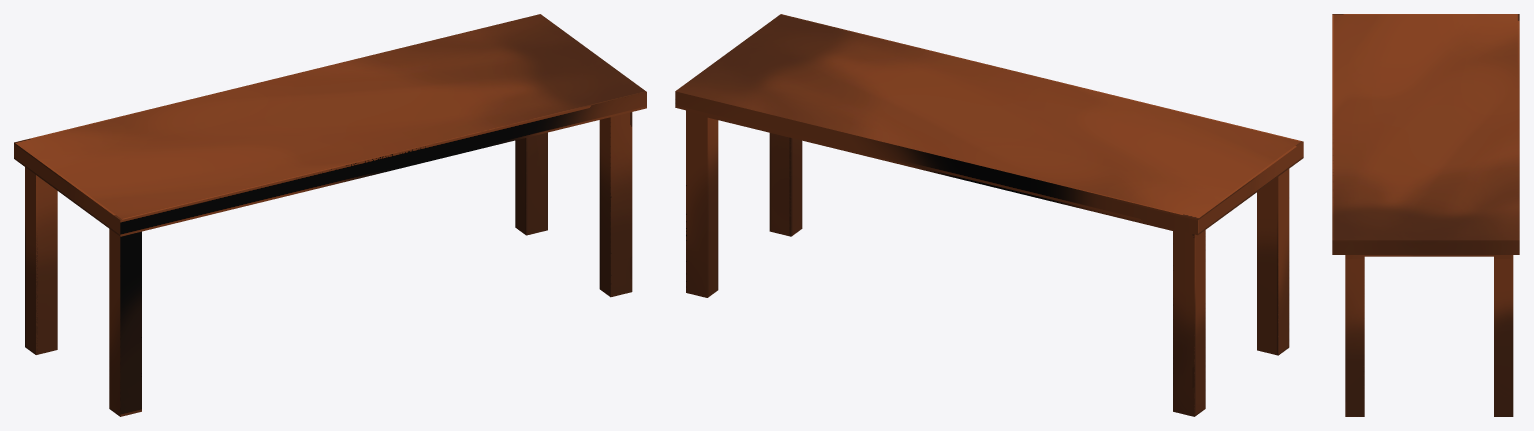
Rendered from lawkadzieci.fbx.
3 views of the same model, side by side, from view 1: azimuth 30°, elevation 25°; view 2: azimuth 150°, elevation 25°; view 3: azimuth 270°, elevation 25° (orthographic). The views are drawn at different scales.
Parts seen in each view (by area): view 1: obj_0; view 2: obj_0; view 3: obj_0.
Part boxes in pixels (x1,y1,x2,y2): obj_0: [14, 14, 646, 416]; obj_0: [675, 14, 1303, 416]; obj_0: [1332, 14, 1519, 416].
Bounding box in the file's own units: 10000 × 3700 × 3500.
Materials: 1 (1 with a texture image).
